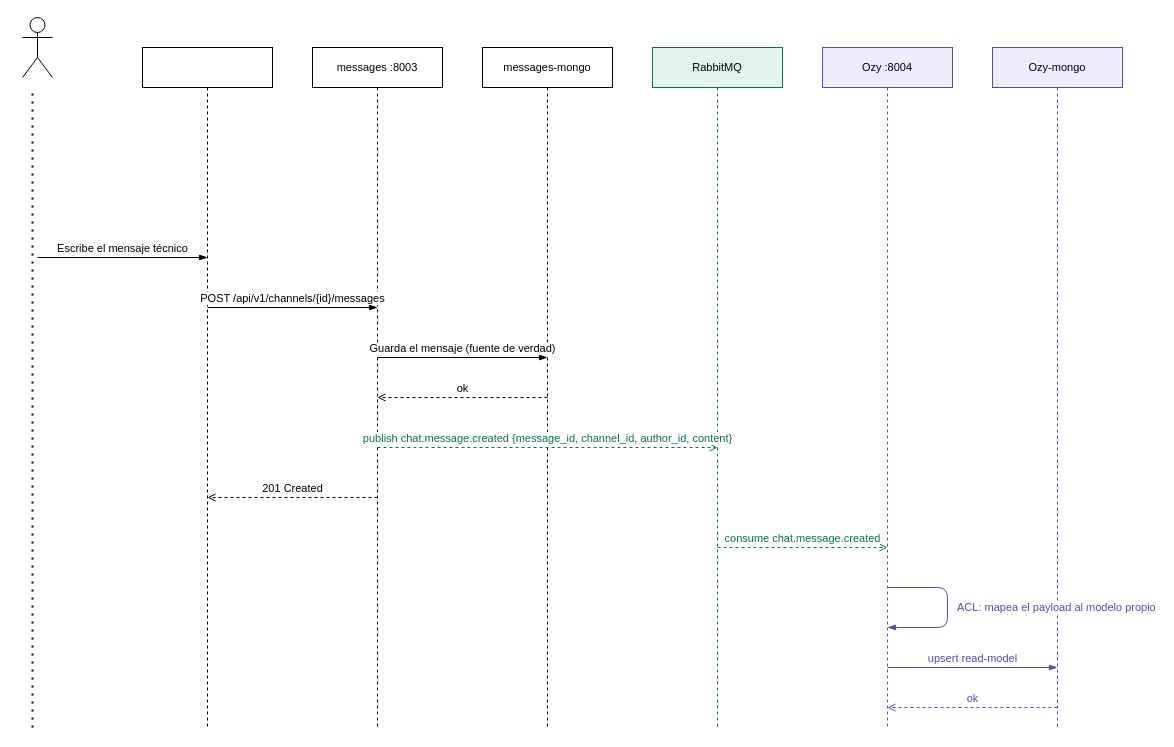
Some shapes in this 1174 by 747 pixel diagram are drawn without their labels. The box of each missing label's shape, as (x1, y1, x2, y2) in pixels:
Cliente / UI: (142, 46, 272, 728)
Usuario: (22, 16, 52, 78)
